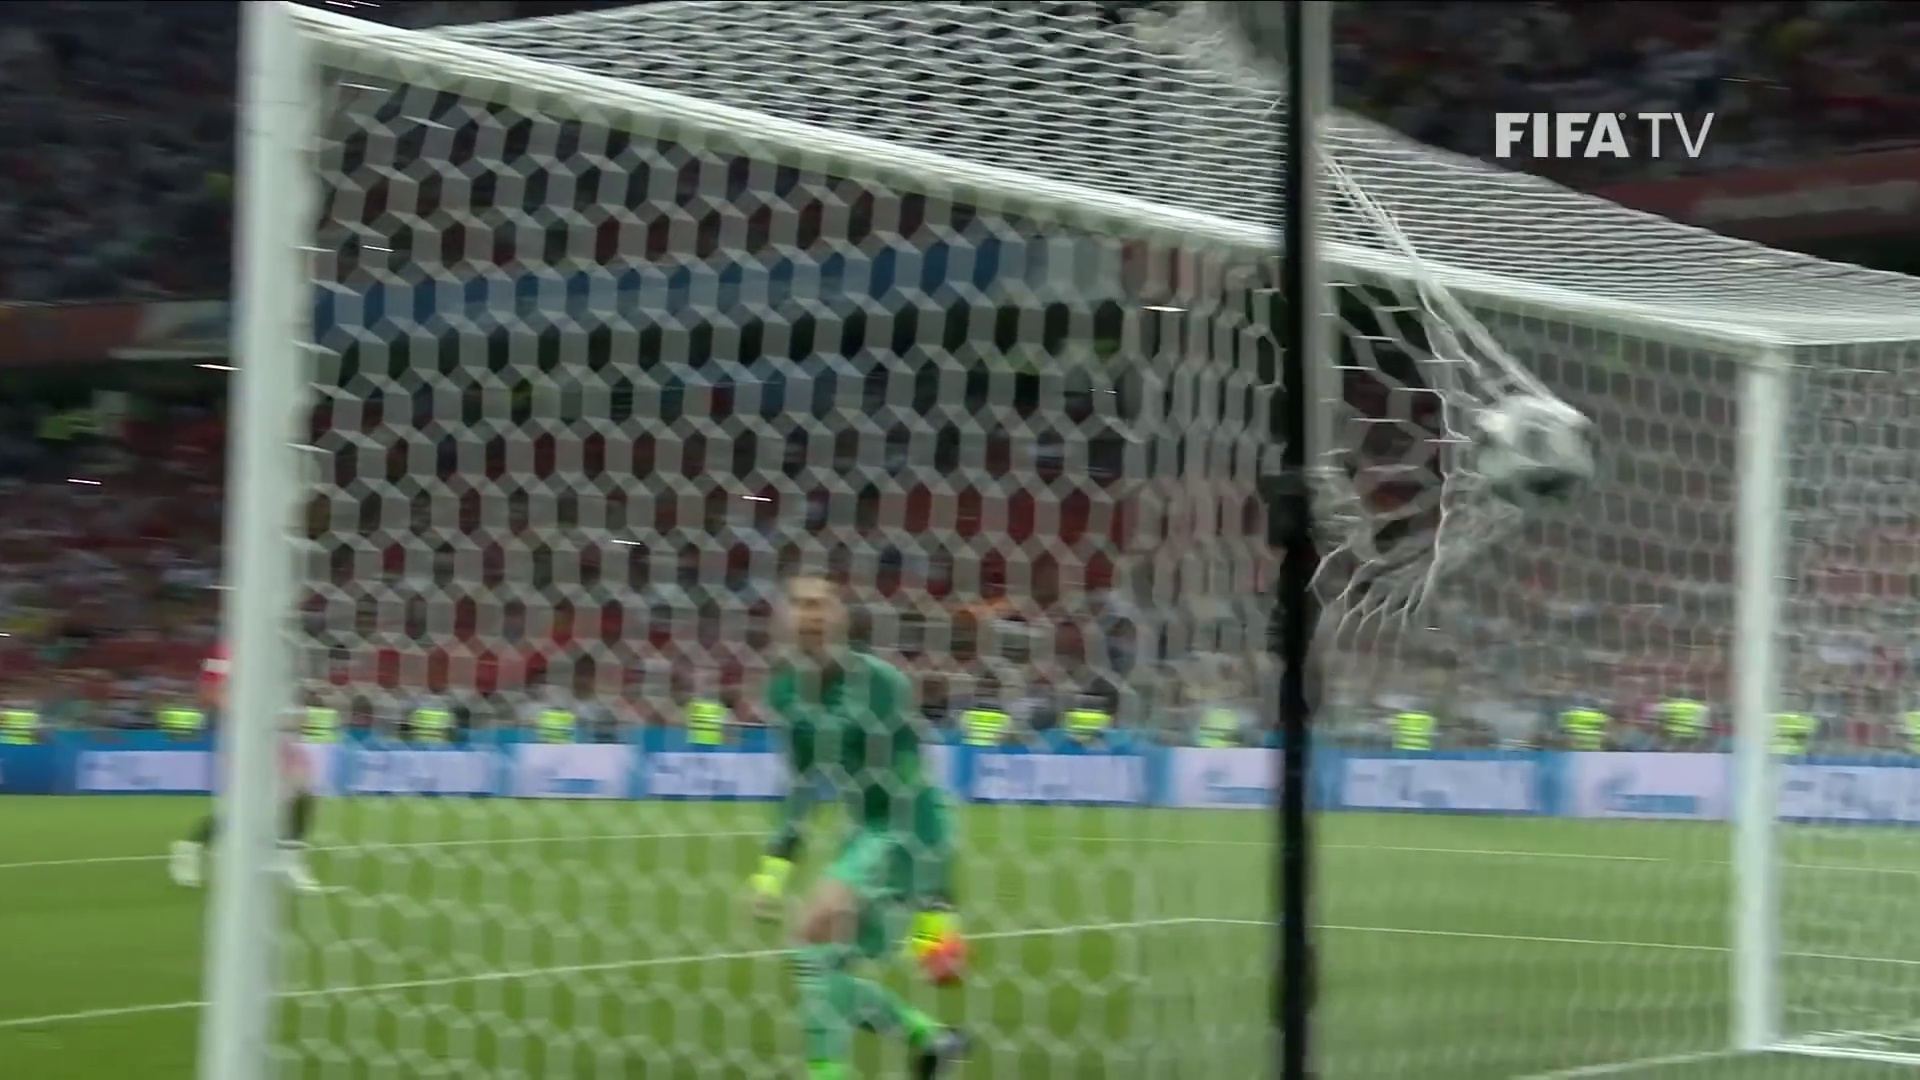ball: (1473, 396, 1595, 514)
person: (761, 572, 971, 1080)
